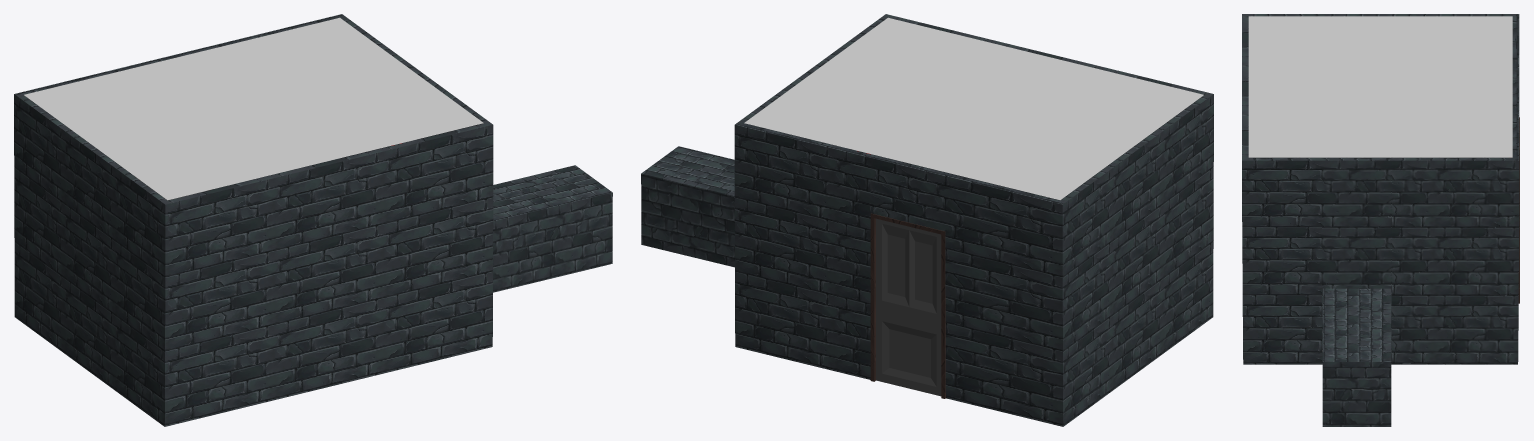
File: scene_04_fix.FBX
The picture shows the model from 3 angles, left to right: view 1: azimuth 30°, elevation 25°; view 2: azimuth 150°, elevation 25°; view 3: azimuth 270°, elevation 25°; orthographic projection. The views are drawn at different scales.
Parts seen in each view (by area): view 1: obj_base_walls, obj_base_ceiling001; view 2: obj_base_walls, obj_base_ceiling001, obj_base_door001; view 3: obj_base_walls, obj_base_ceiling001.
Boxes of the visible parts, x1,y1,x2,y2 form: obj_base_walls: (14,14,612,426); obj_base_ceiling001: (24,17,483,200); obj_base_walls: (641,14,1213,426); obj_base_ceiling001: (744,17,1203,200); obj_base_door001: (876,218,941,396); obj_base_walls: (1242,14,1519,426); obj_base_ceiling001: (1248,16,1512,157).
Bounding box in the file's own units: 279 × 121 × 149.
12 materials, 6 textured.
